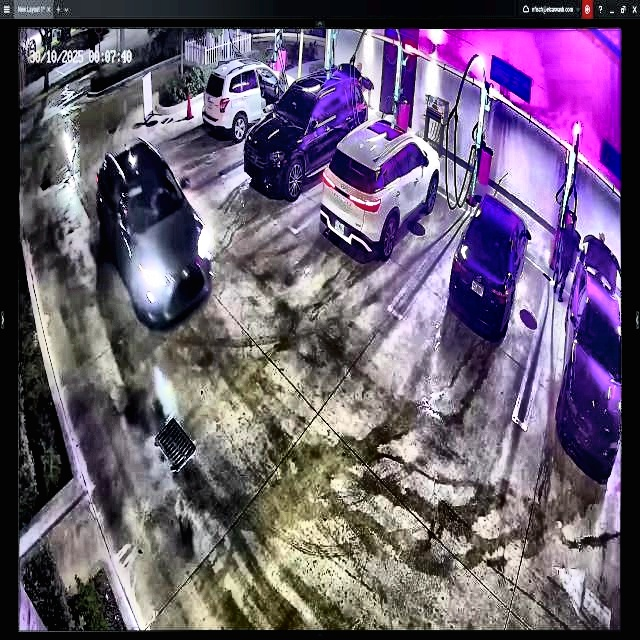Car: (95, 136, 210, 327), (324, 119, 438, 258), (244, 68, 366, 194), (451, 196, 530, 339), (202, 62, 297, 139)
